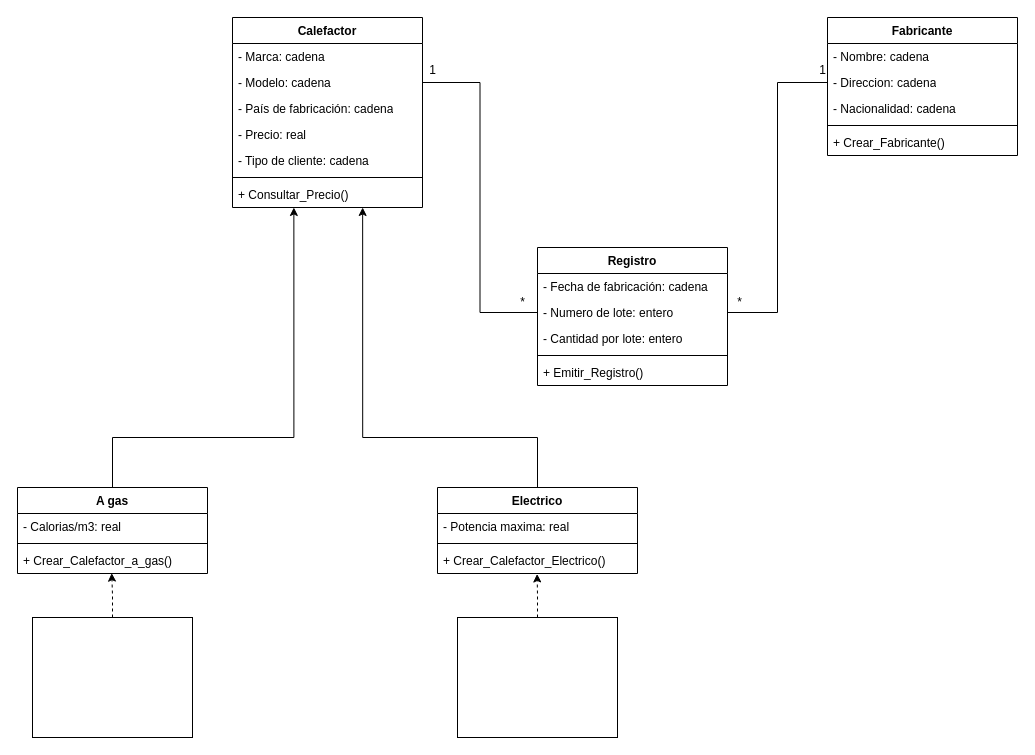
Image size: 1035x755. Some labels were removed from this diagram. The shapes that lost their labels are listed below. From the top down, each one's centre as x and y in pixels, then its label:
At point 112,677: ":A gas Eskabe Miniconvex Rusia 200000 Empresa 5000".
At point 537,677: ":Electrico Emege 3150 España 100000 Particular 500".
